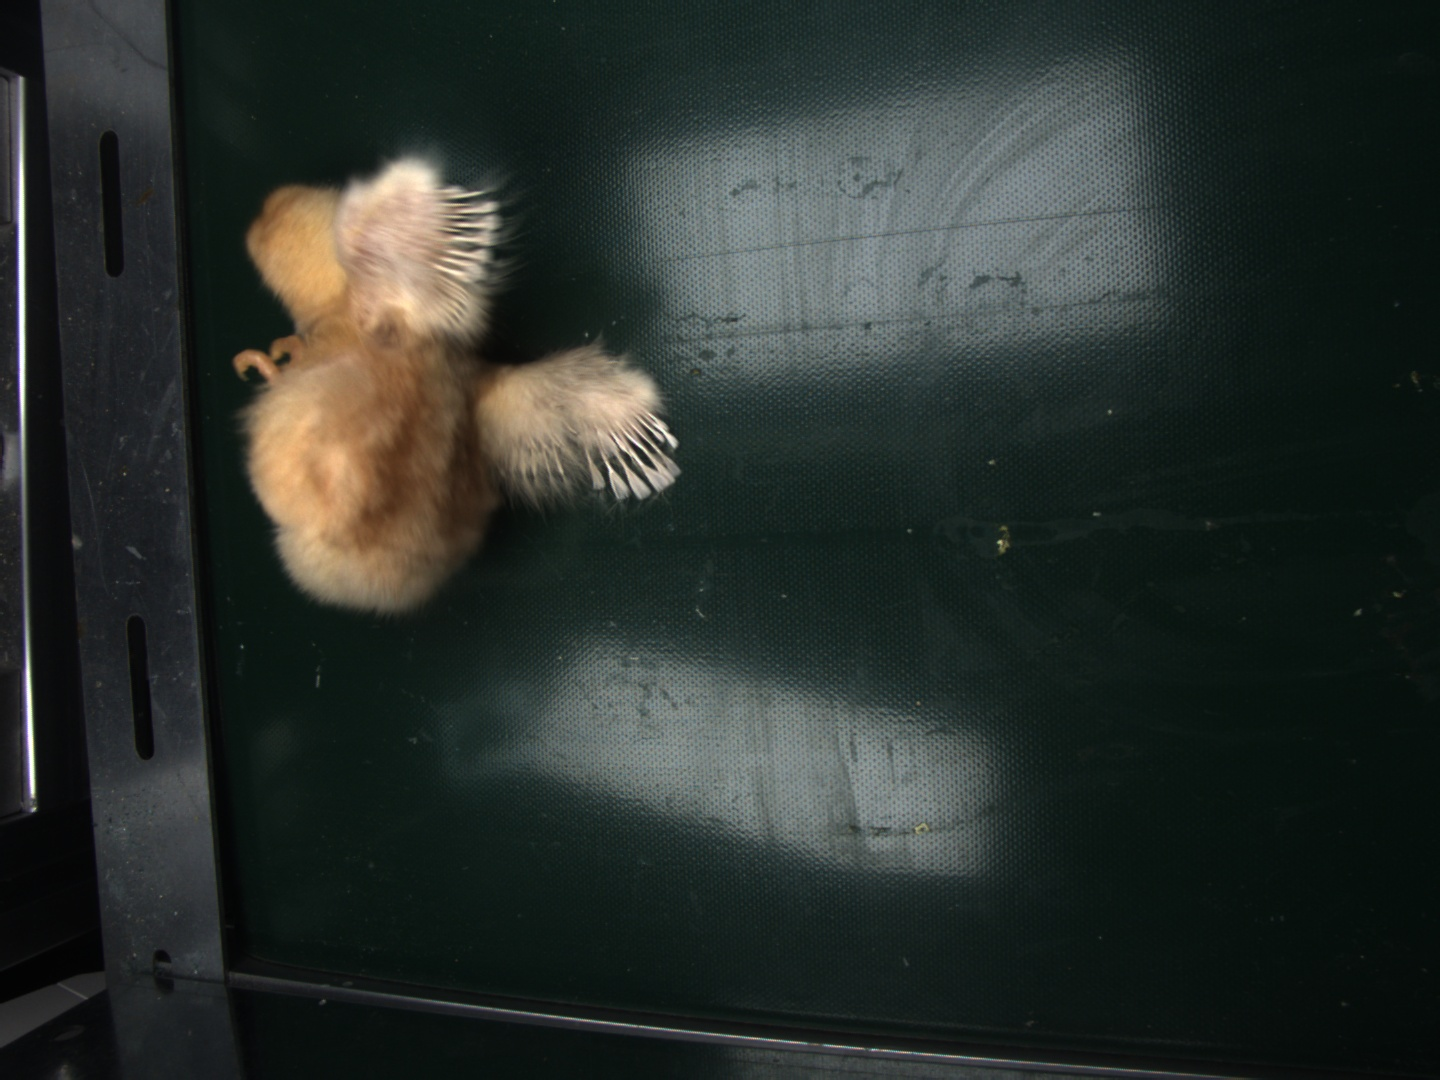female: (592, 408, 681, 497), (434, 193, 485, 303)
